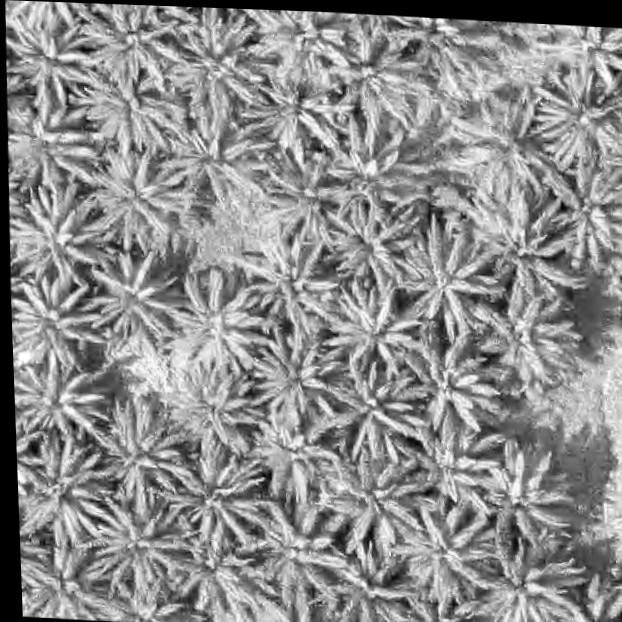oilpalm: (469, 281, 590, 389), (77, 148, 197, 252), (467, 526, 585, 622), (166, 14, 273, 119), (314, 132, 425, 230), (396, 336, 502, 437), (474, 443, 575, 548), (95, 494, 196, 598), (394, 222, 492, 329), (160, 113, 269, 209), (251, 495, 352, 596), (7, 179, 108, 280), (249, 324, 353, 422), (91, 405, 189, 508), (395, 496, 489, 603), (325, 35, 425, 135), (328, 448, 421, 555), (469, 199, 570, 297), (321, 361, 422, 458), (242, 231, 340, 330), (87, 249, 186, 346), (5, 13, 99, 113), (168, 268, 261, 368), (10, 273, 107, 368), (16, 445, 114, 538), (13, 356, 111, 449), (329, 280, 421, 379), (253, 69, 347, 162), (86, 60, 183, 150), (168, 362, 265, 449), (458, 100, 550, 191), (408, 417, 496, 511), (87, 3, 181, 89), (538, 165, 622, 261), (177, 447, 264, 537), (327, 203, 415, 287), (250, 418, 341, 496), (539, 81, 622, 165), (324, 543, 412, 622), (6, 108, 97, 184), (398, 16, 491, 83), (263, 10, 361, 73), (182, 530, 260, 608), (562, 25, 622, 93)
